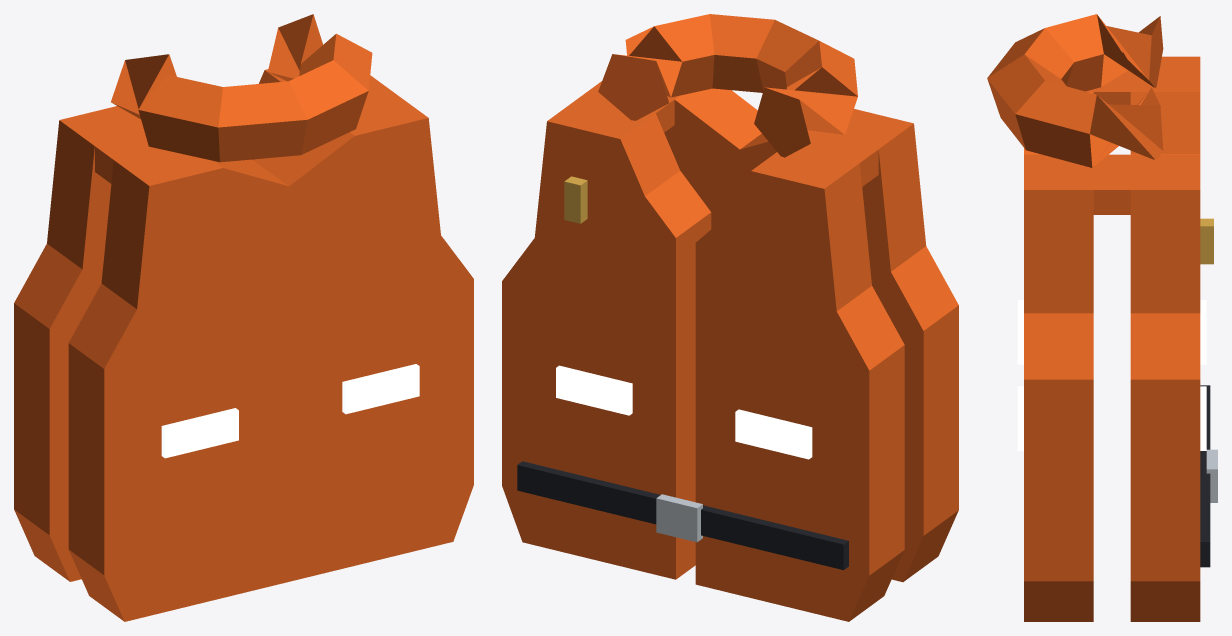
Rendered from life_vest.glb.
3 renders of one model, left to right at view 1: azimuth 30°, elevation 25°; view 2: azimuth 150°, elevation 25°; view 3: azimuth 270°, elevation 25°, orthographic. The views are drawn at different scales.
Parts seen in each view (by area): view 1: Body; view 2: Body; view 3: Body.
Boxes of the visible parts, x1=… form: Body: x1=14, y1=14, x2=473, y2=621; Body: x1=502, y1=14, x2=958, y2=621; Body: x1=987, y1=14, x2=1217, y2=621.
Size of the model in its own units: 0.45 by 0.582 by 0.2488.
